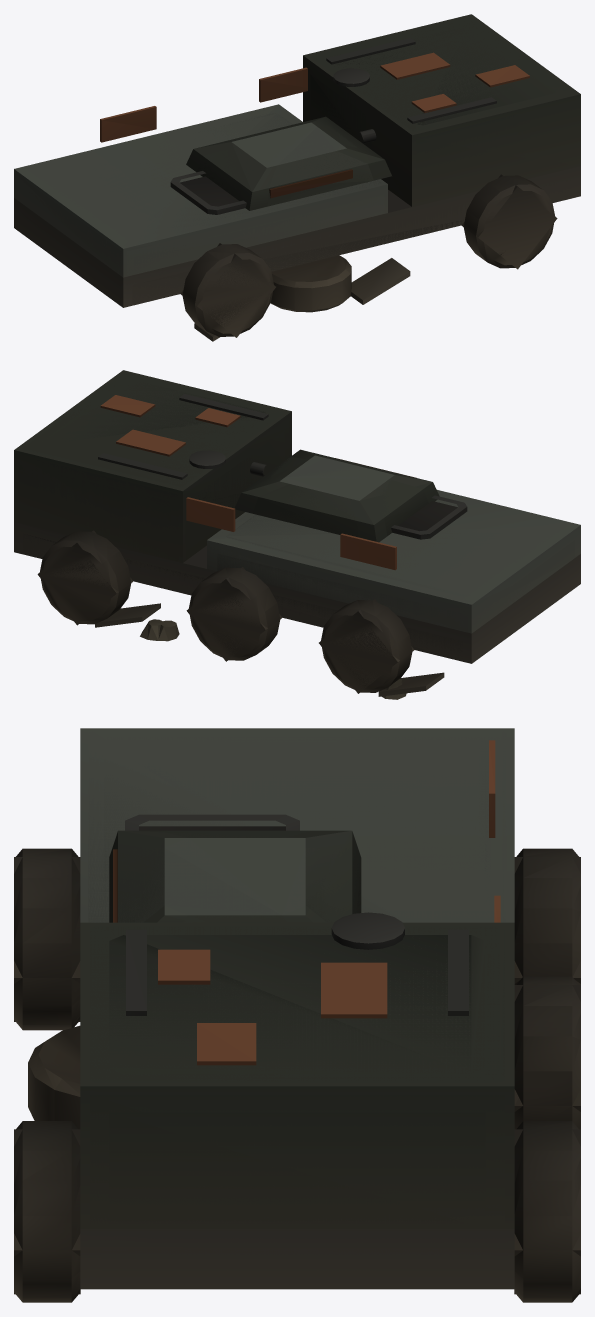
The model's file is neutral_wreck_medium_vehicle.glb.
The picture shows the model from 3 angles, top to bottom: view 1: azimuth 30°, elevation 25°; view 2: azimuth 150°, elevation 25°; view 3: azimuth 270°, elevation 25°; orthographic projection. The views are drawn at different scales.
Visible parts, largest first — view 1: hull (×3), turret (×2); view 2: hull (×3), turret (×2); view 3: hull (×3), turret (×2).
Boxes of the visible parts, bbox=[...] form: hull (×3): bbox=[14, 14, 580, 341]; turret (×2): bbox=[186, 116, 391, 210]; hull (×3): bbox=[14, 370, 580, 699]; turret (×2): bbox=[234, 449, 439, 542]; hull (×3): bbox=[14, 728, 580, 1302]; turret (×2): bbox=[109, 830, 361, 922].
Size of the model in its own units: 6 by 1.85 by 3.24.
